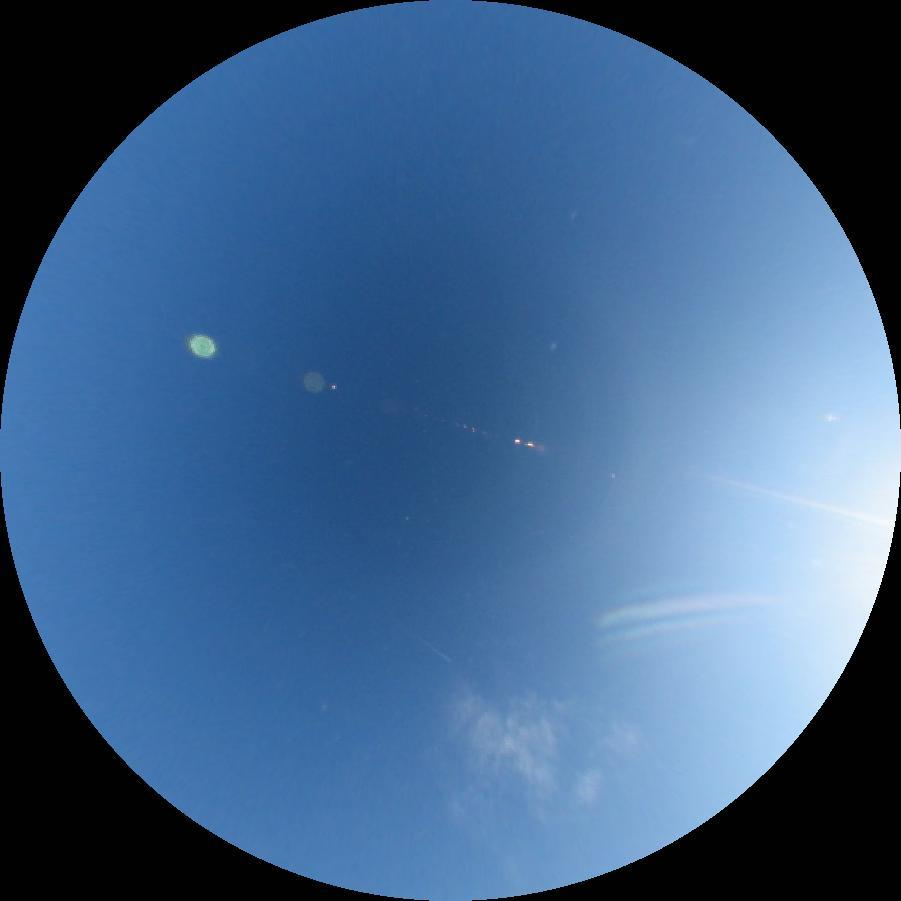contrail young: (411, 631, 452, 664)
parasite: (706, 473, 880, 525), (595, 585, 772, 629)
